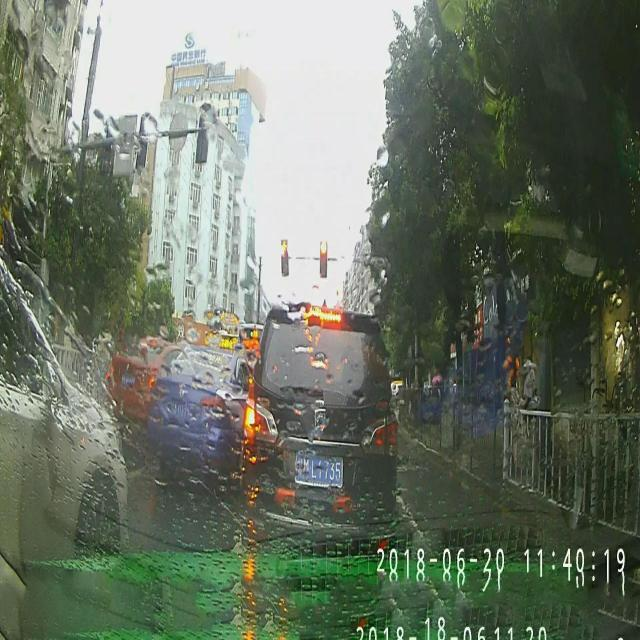car: (240, 309, 398, 566), (0, 264, 128, 566), (148, 344, 248, 480), (104, 342, 160, 420)
